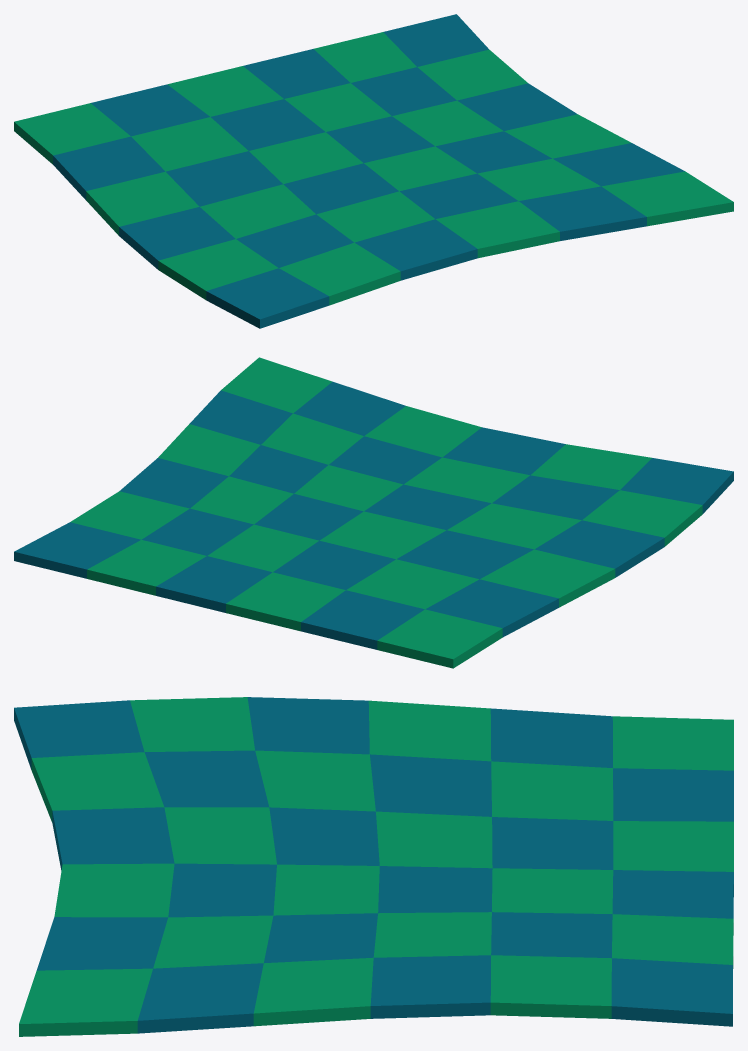
The model's file is SM_Picknickdecke.fbx.
3 views of the same model, one above another, from view 1: azimuth 30°, elevation 25°; view 2: azimuth 150°, elevation 25°; view 3: azimuth 270°, elevation 25° (orthographic). The views are drawn at different scales.
Parts seen in each view (by area): view 1: Picknickdecke.001; view 2: Picknickdecke.001; view 3: Picknickdecke.001.
Boxes of the visible parts, x1=… form: Picknickdecke.001: x1=14, y1=14, x2=733, y2=328; Picknickdecke.001: x1=14, y1=357, x2=733, y2=668; Picknickdecke.001: x1=14, y1=697, x2=733, y2=1036.
Bounding box in the file's own units: 234 × 4.27 × 218.
